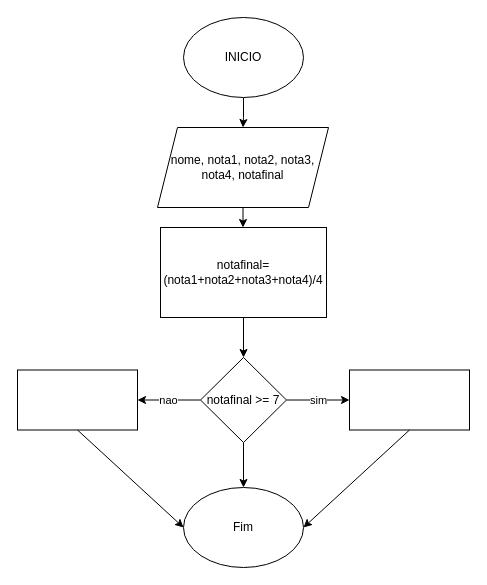
This 487x585 diagram has some shape labels left out. Here are the shapes that lost their labels. From the top down, the box of each, then its label:
(16, 369, 138, 430): O(a) aluno(a) foi reprovado
(348, 369, 470, 430): O(a) aluno(a) foi aprovado
